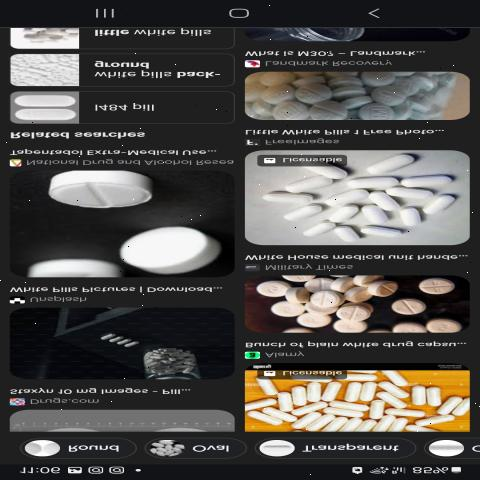Pill: (29, 165, 184, 223), (115, 224, 230, 278), (360, 150, 429, 182), (371, 297, 437, 321), (416, 189, 468, 216), (356, 220, 414, 241), (260, 190, 318, 210), (411, 278, 469, 296)
